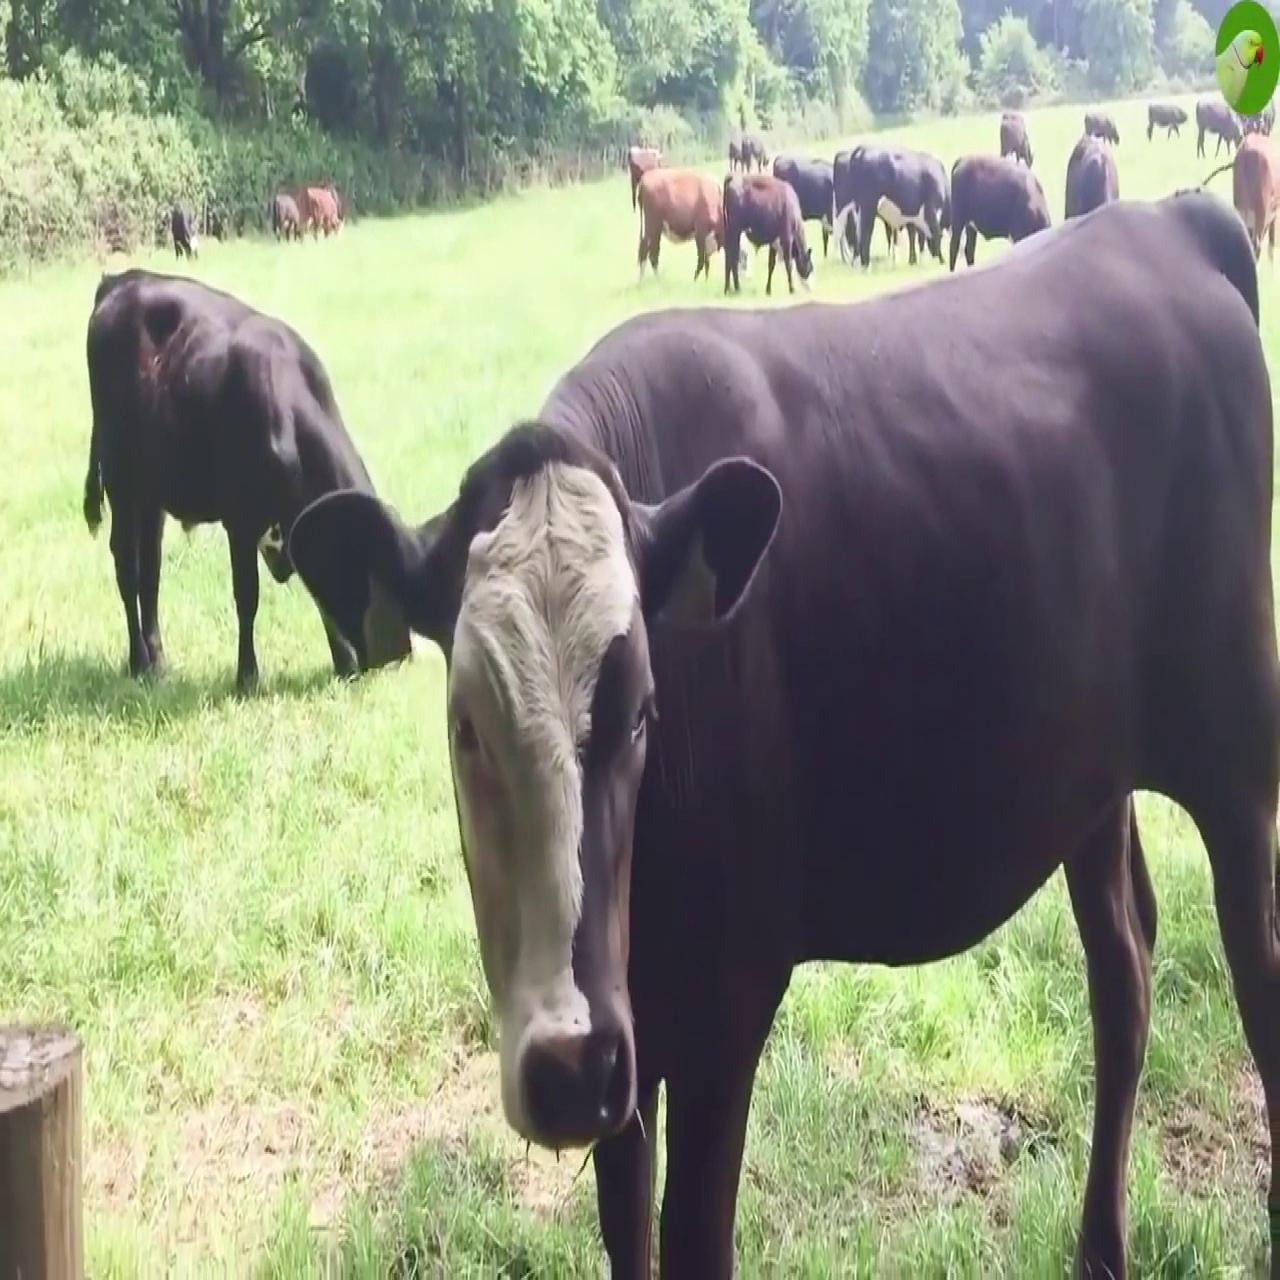Face: (461, 484, 649, 1140)
